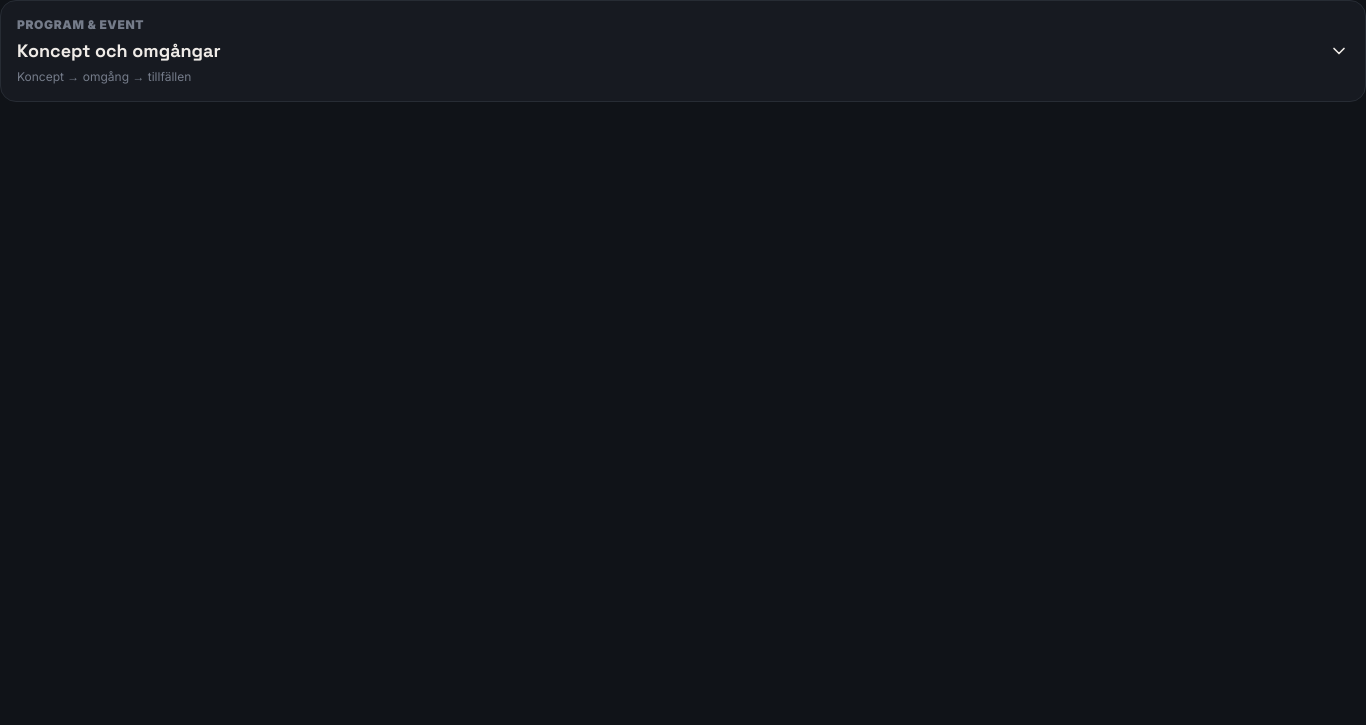
Test: Course V1 Admin › configures product-owned Series Early Bird and shows the compact preview
Later steps or results of the test are not shown.
Click the button "Program".
click(81, 24)  # box [17, 17, 1349, 85]
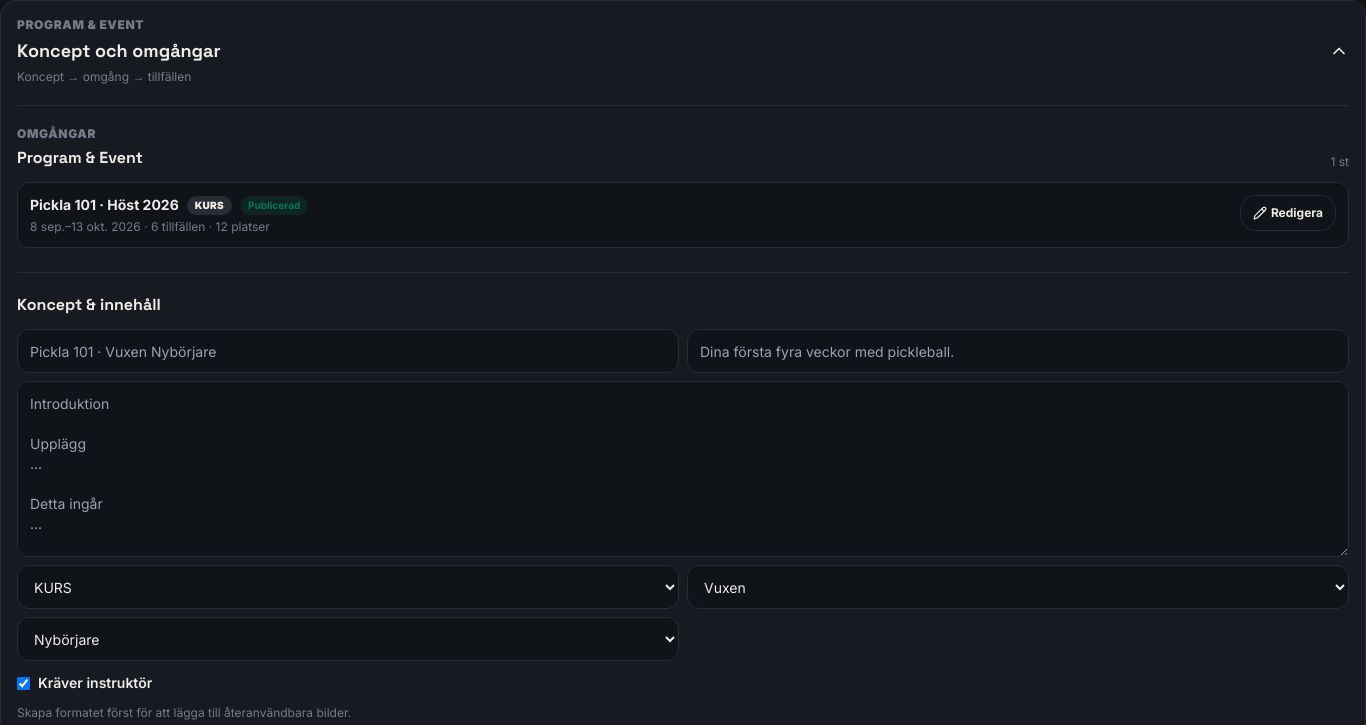
Click the button with aria-label "Redigera omgång Pickla 101 · Höst 2026".
click(1288, 213)  # box [1240, 195, 1336, 231]
(page scrolled)
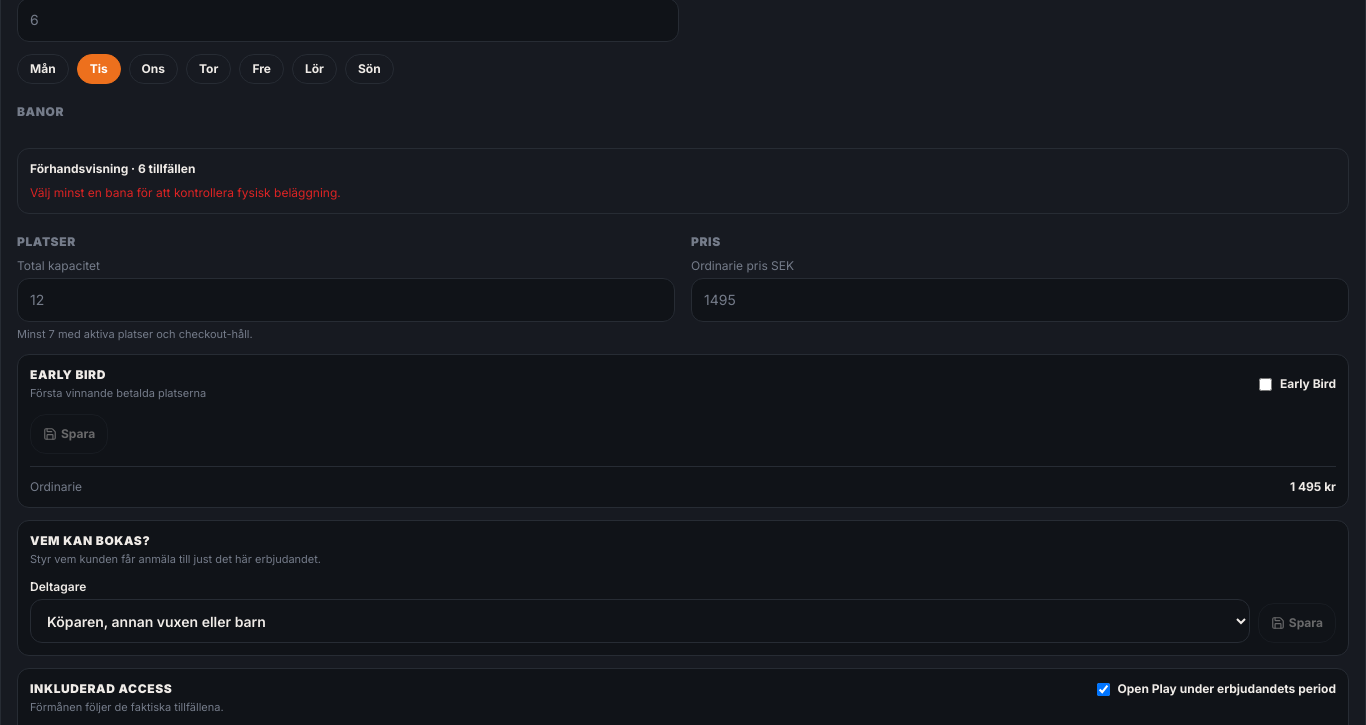
Click the checkbox labelled "Early Bird".
click(1265, 384)  # box [1259, 378, 1272, 391]
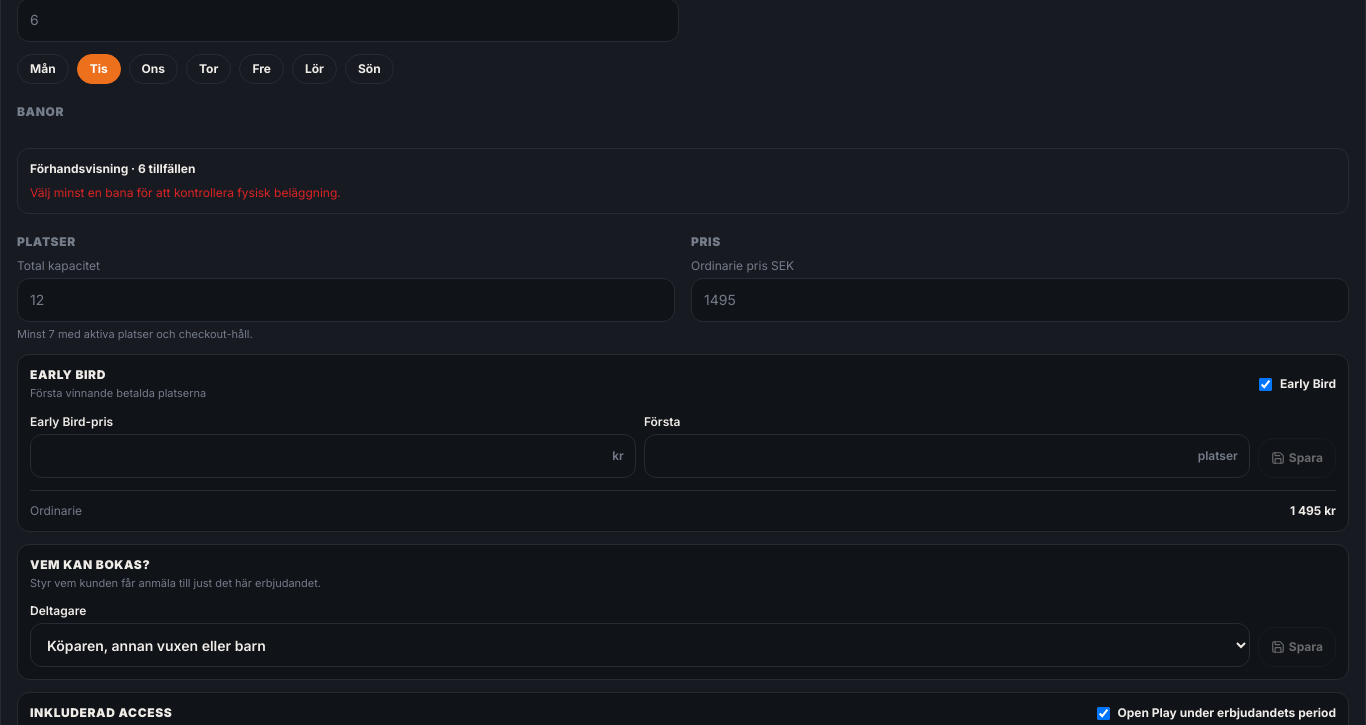
Type "1295" into the field labelled "Early Bird-pris kr".
click(333, 456); type("1295")  # box [30, 434, 636, 478]
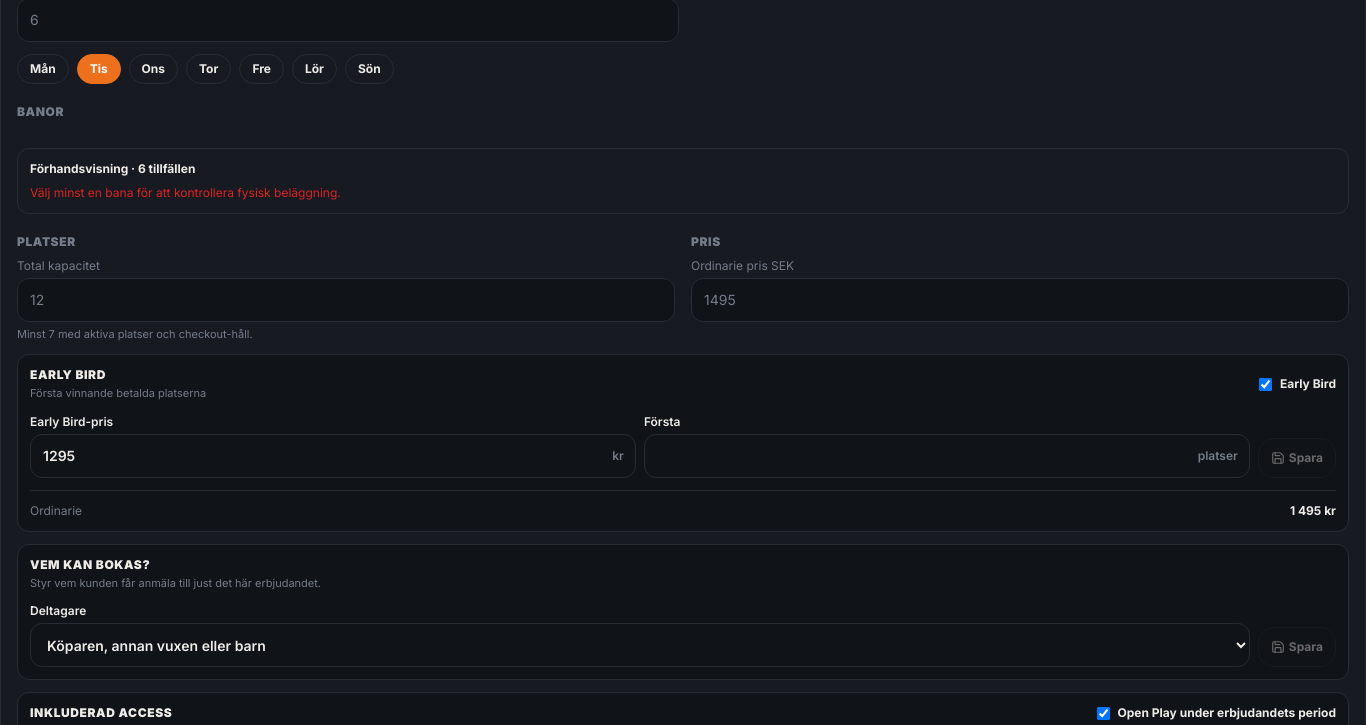
Type "3" into the field labelled "Första platser".
click(947, 456); type("3")  # box [644, 434, 1250, 478]
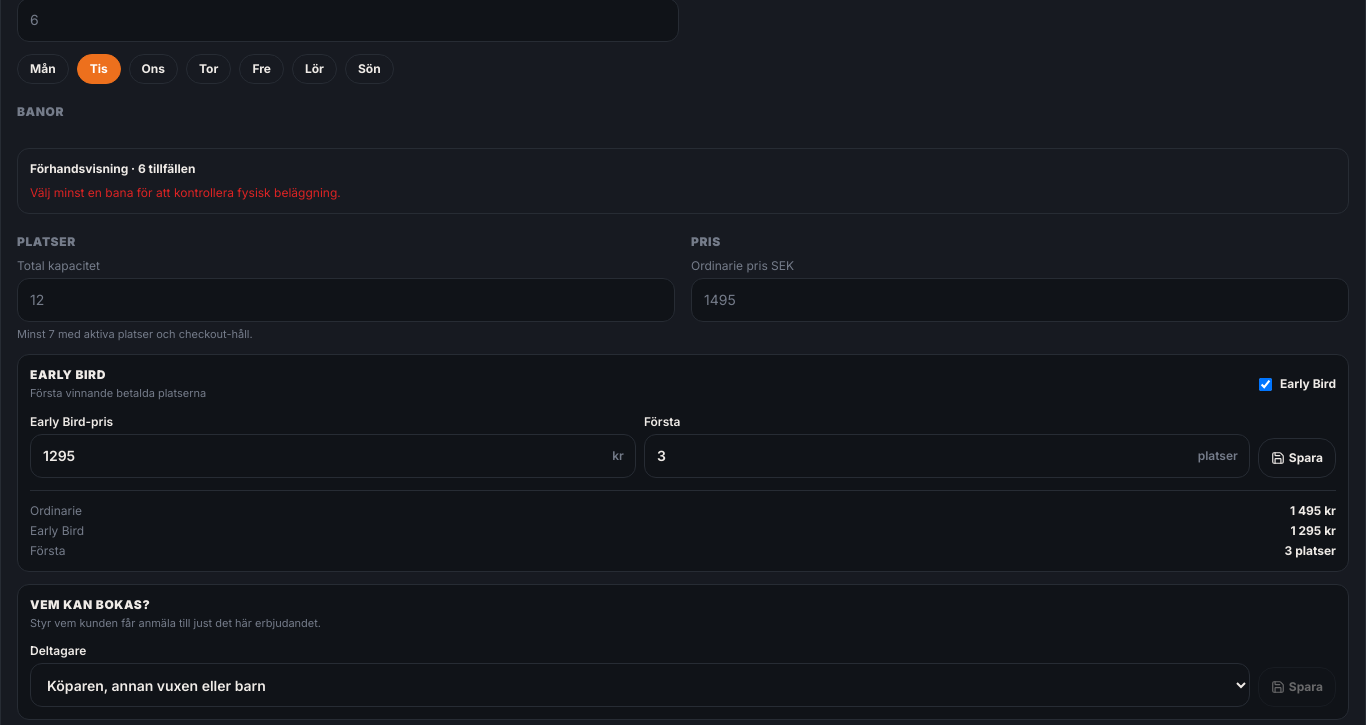
Expected: the text "1 295 kr" is shown, [1290, 522, 1336, 538]
Expected: the text "3 platser" is shown, [1285, 542, 1336, 558]
